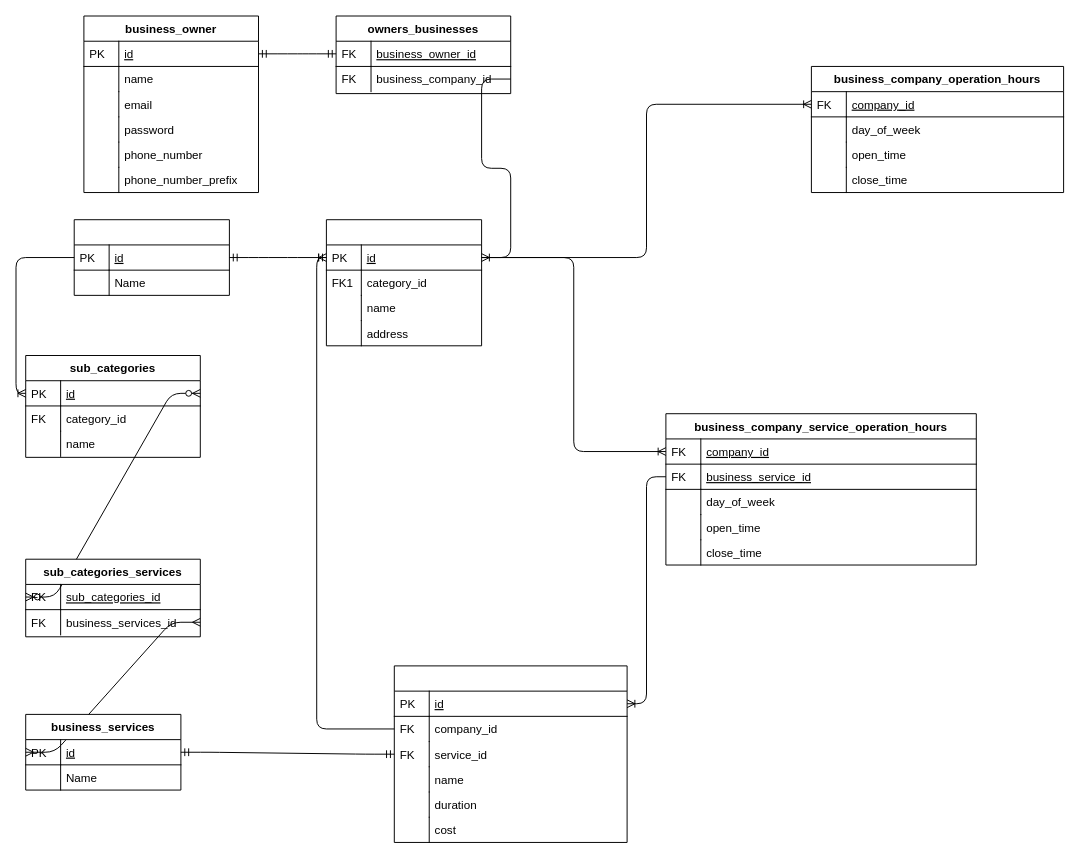
The diagram is 1080 pixels wide and 858 high, and some of its shapes have lost their labels. Each missing label, with the box of its shape:
business_category: (73, 219, 229, 295)
business_company: (325, 219, 482, 346)
business_company_service: (393, 665, 627, 842)
